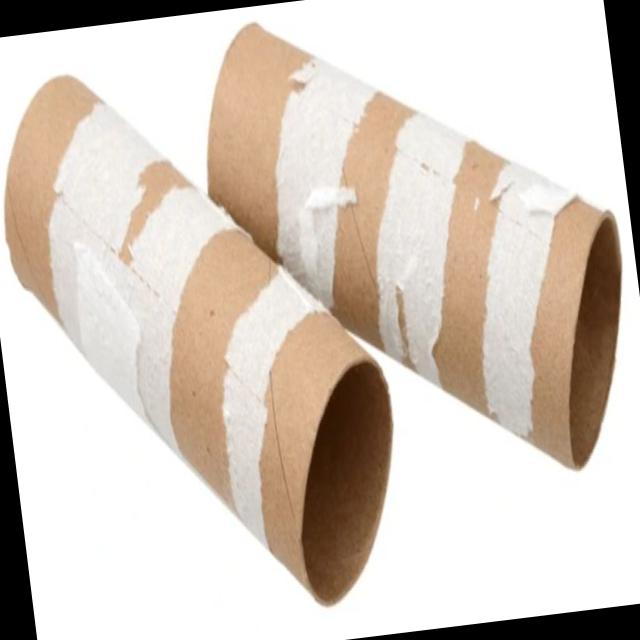electronic: (0, 35, 414, 640), (186, 0, 640, 511)
